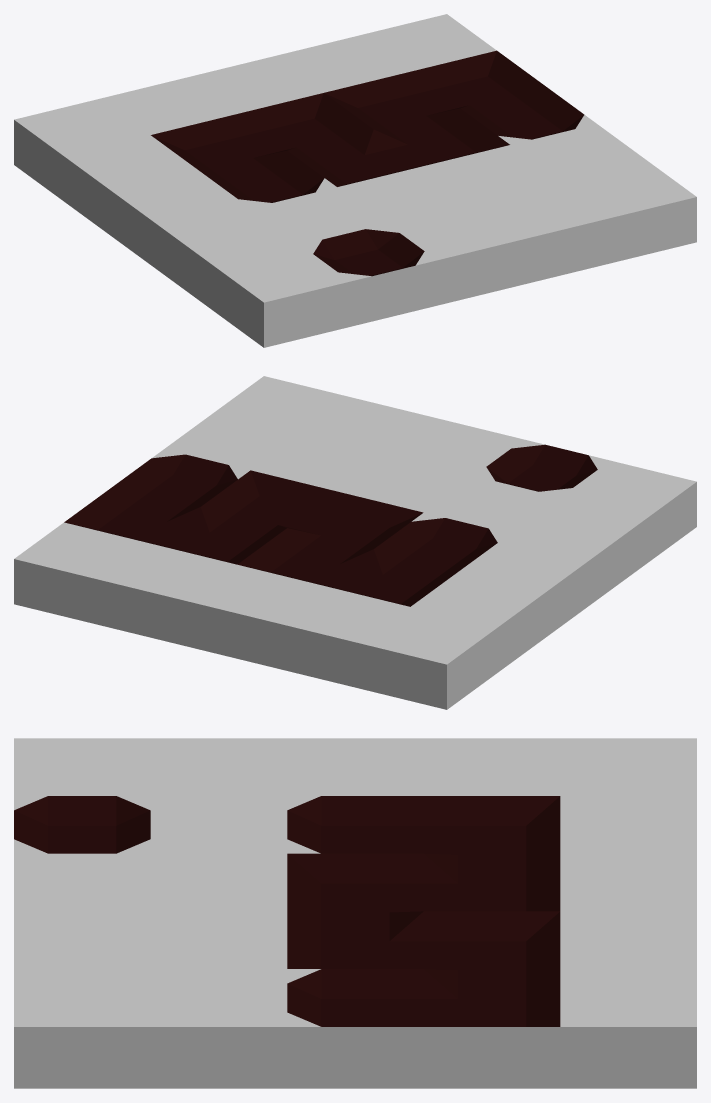
3 renders of one model, top to bottom at view 1: azimuth 30°, elevation 25°; view 2: azimuth 150°, elevation 25°; view 3: azimuth 270°, elevation 25°, orthographic. The views are drawn at different scales.
Visible parts, largest first — view 1: block.0.0_block.103, ending.1.2_ending.013; view 2: block.0.0_block.103, ending.1.2_ending.013; view 3: block.0.0_block.103, ending.1.2_ending.013.
Part boxes in pixels (left/top/right/bottom): block.0.0_block.103: left=14, top=14, right=696, bottom=347; ending.1.2_ending.013: left=151, top=50, right=596, bottom=208; block.0.0_block.103: left=14, top=376, right=696, bottom=709; ending.1.2_ending.013: left=64, top=449, right=509, bottom=606; block.0.0_block.103: left=14, top=738, right=696, bottom=1088; ending.1.2_ending.013: left=287, top=796, right=560, bottom=1088.
Bounding box in the file's own units: 10 × 1 × 10.
